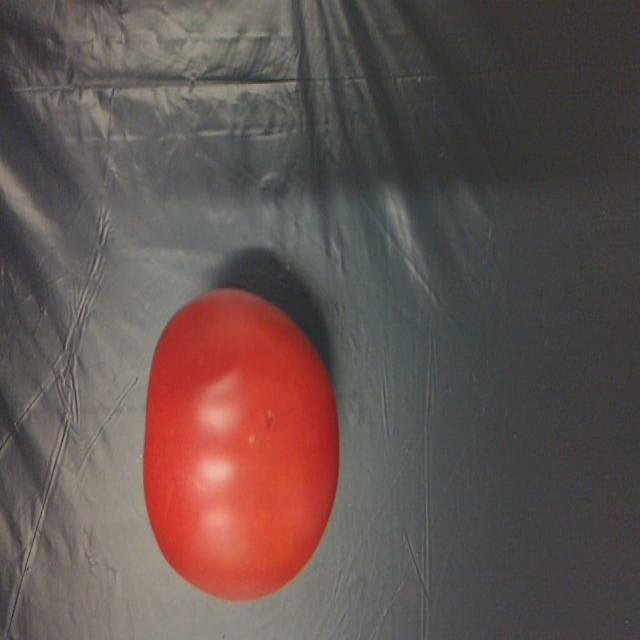kirmizi: (146, 282, 343, 600)
